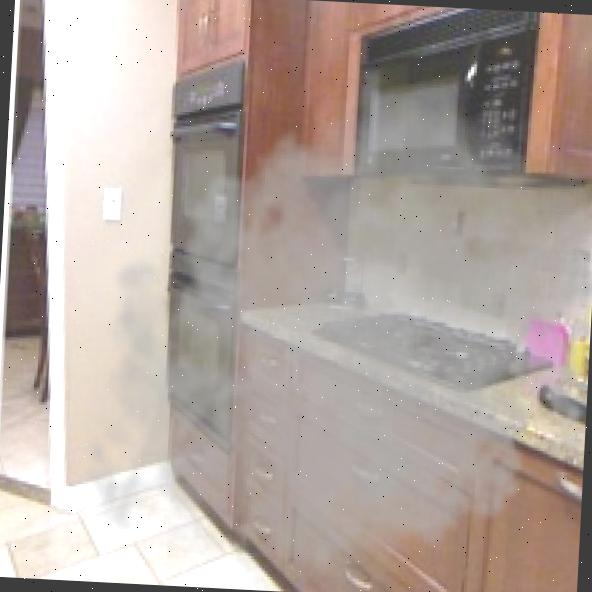smoke: (64, 44, 592, 592)
